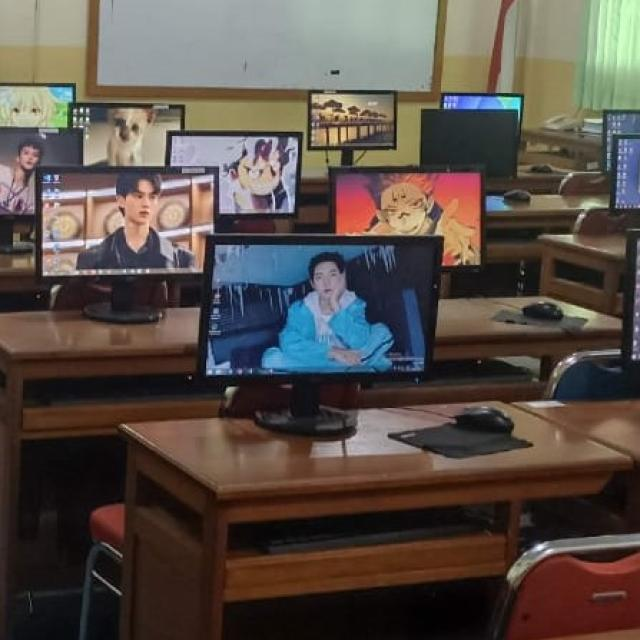offscreen: (421, 110, 519, 177)
onscreen: (199, 235, 440, 379), (38, 169, 216, 278), (330, 169, 482, 267), (167, 132, 302, 214), (72, 102, 184, 166), (0, 128, 82, 214), (309, 91, 396, 150), (0, 83, 74, 128), (602, 110, 639, 171), (610, 135, 640, 210), (441, 94, 522, 114)
